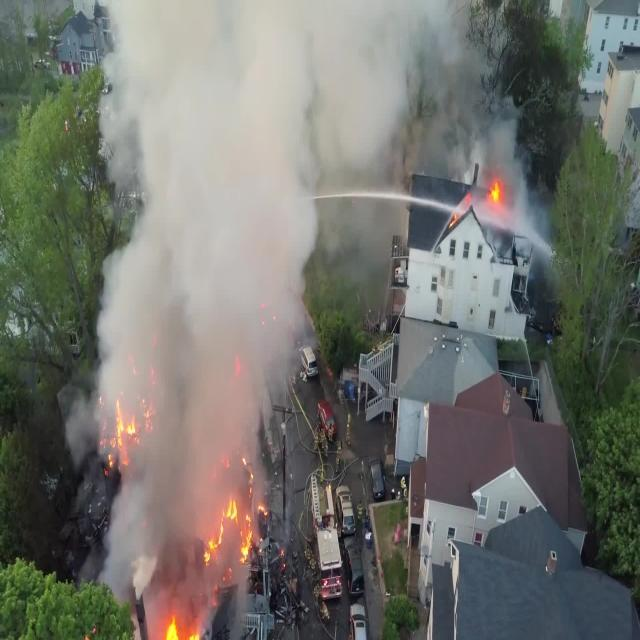Fire: (98, 376, 255, 640)
Smoke: (81, 0, 528, 637)
